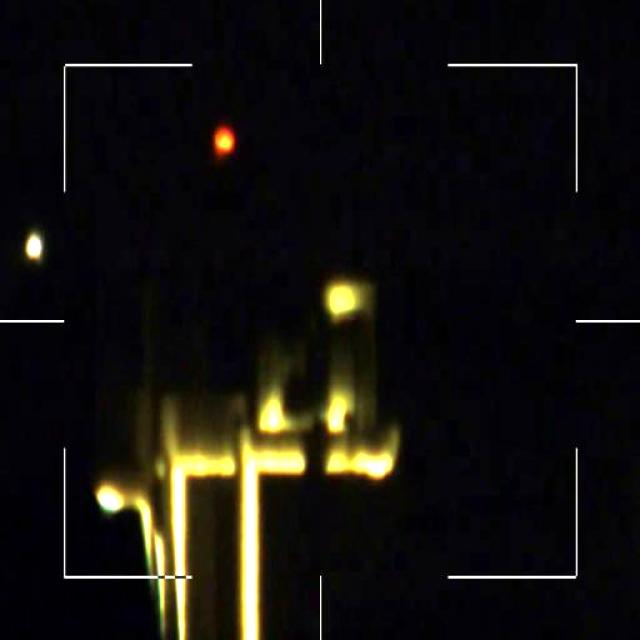bird: (209, 124, 239, 162)
